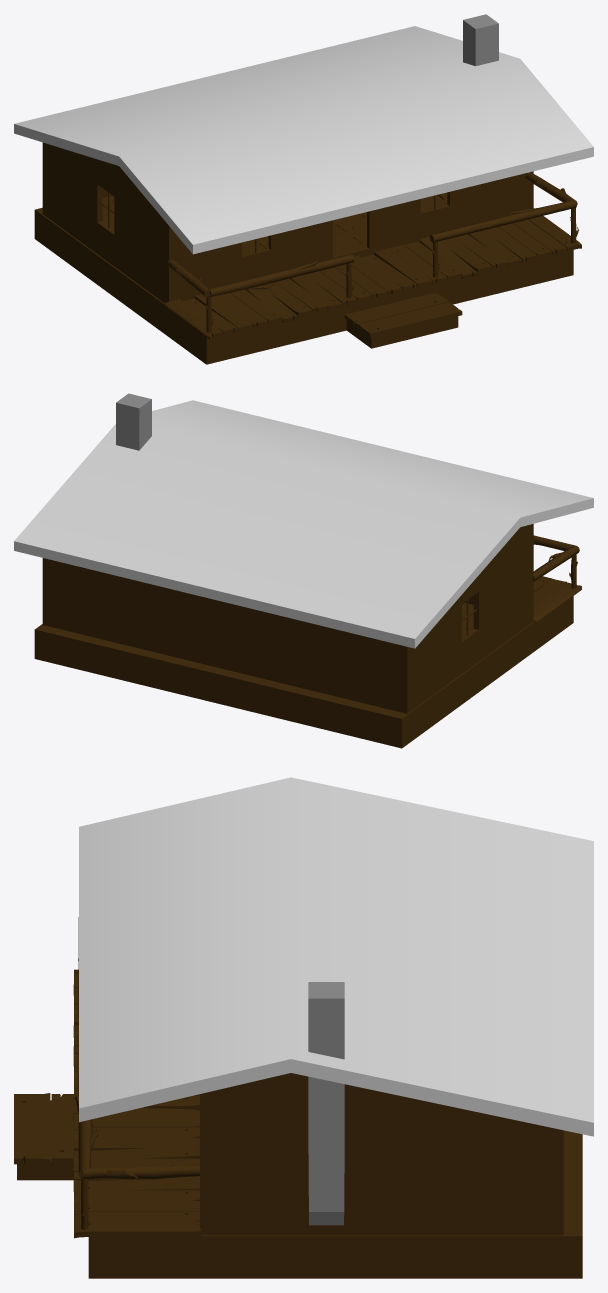
File: Cabin.fbx
3 views of the same model, one above another, from view 1: azimuth 30°, elevation 25°; view 2: azimuth 150°, elevation 25°; view 3: azimuth 270°, elevation 25° (orthographic). The views are drawn at different scales.
Parts seen in each view (by area): view 1: pCube114; view 2: pCube114; view 3: pCube114.
Part boxes in pixels (x1=…): pCube114: x1=14, y1=14, x2=593, y2=364; pCube114: x1=14, y1=393, x2=593, y2=748; pCube114: x1=14, y1=777, x2=593, y2=1278.
Size of the model in its own units: 55 by 25.6 by 47.86.
